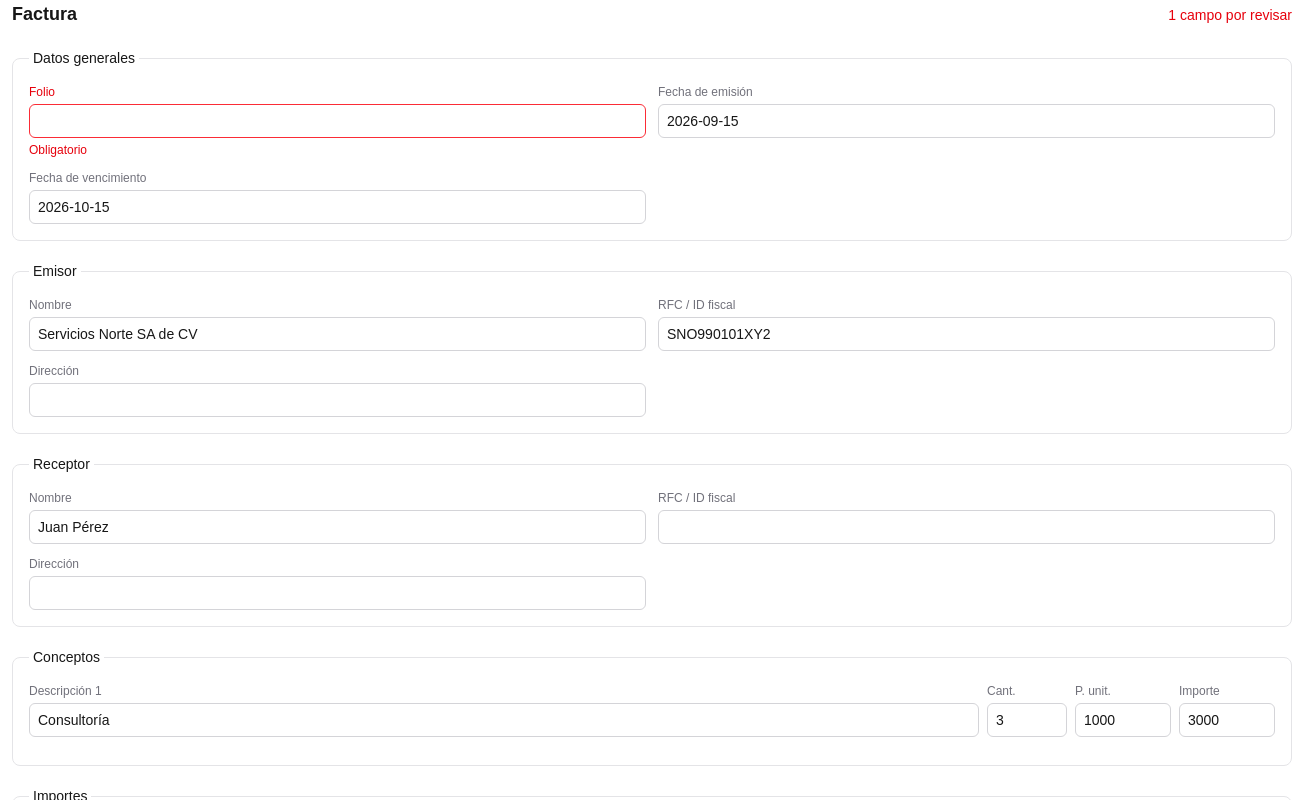
Test: DocumentForm › confirmar › deshabilitado mientras haya campos en rojo
The image size is (1304, 800).
Type "A-1" into the field labelled "Folio".
click(338, 121); type("A-1")  # box [29,104,646,138]
(page scrolled)
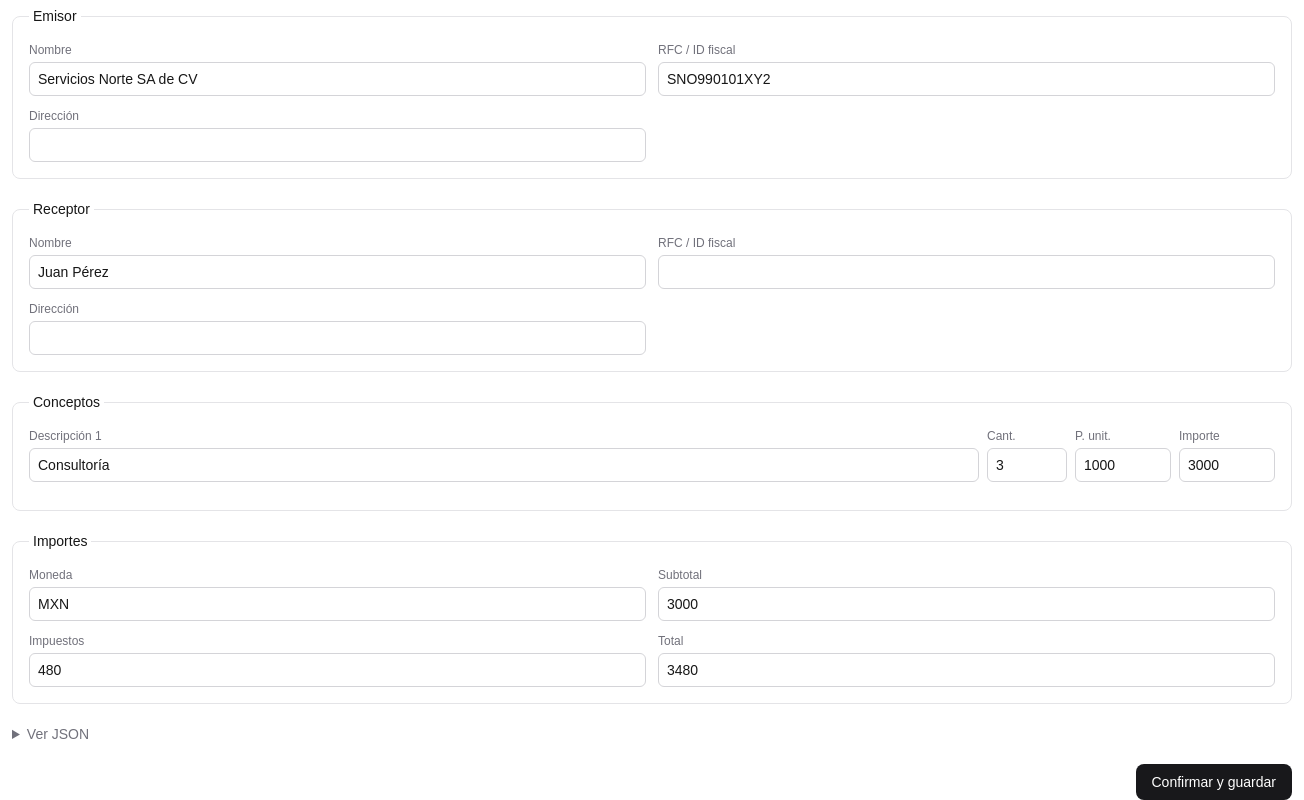
Now the button "Confirmar y guardar" is enabled, box [1136,764,1292,799]
